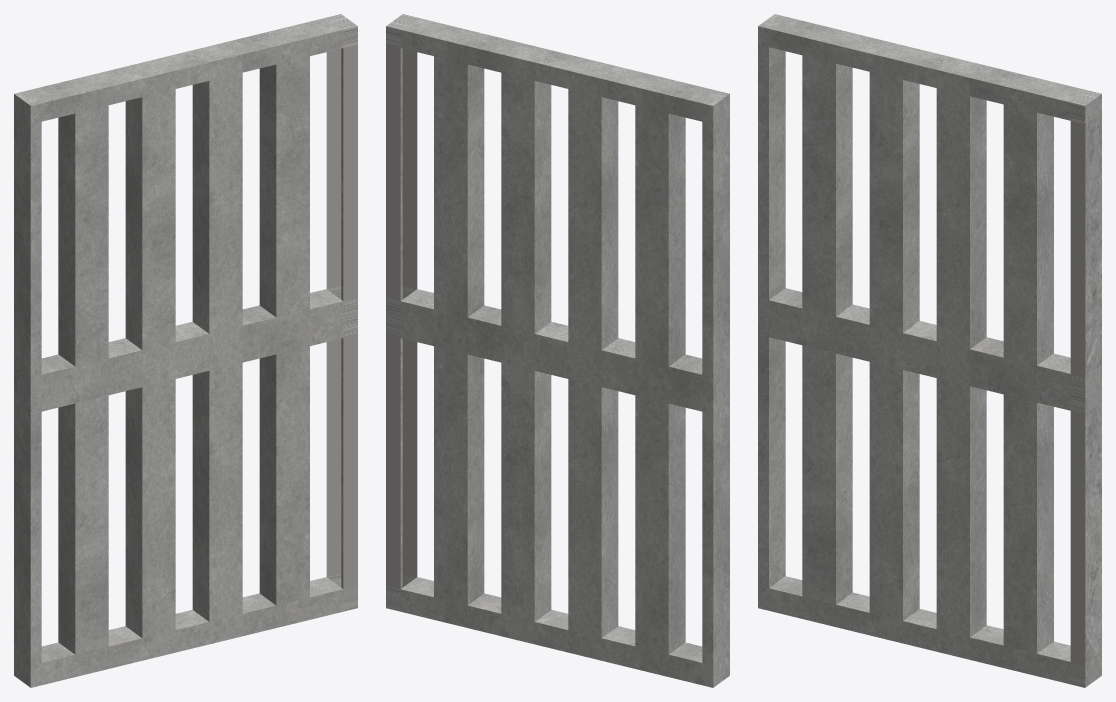
File: prisondoor.glb
3 views of the same model, side by side, from view 1: azimuth 30°, elevation 25°; view 2: azimuth 150°, elevation 25°; view 3: azimuth 330°, elevation 25° (orthographic).
Parts seen in each view (by area): view 1: PrisonDoor; view 2: PrisonDoor; view 3: PrisonDoor.
Boxes of the visible parts, x1=… form: PrisonDoor: x1=14, y1=14, x2=357, y2=687; PrisonDoor: x1=386, y1=14, x2=729, y2=687; PrisonDoor: x1=758, y1=14, x2=1101, y2=687.
Size of the model in its own units: 1.58 by 2.69 by 0.1402.
1 material, 1 textured.
